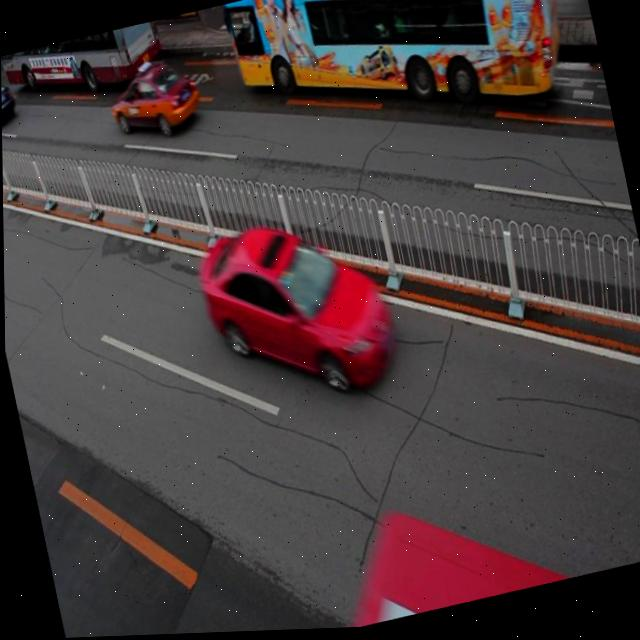car: (193, 202, 400, 416), (107, 57, 204, 145), (1, 70, 19, 135)
van: (221, 0, 579, 162), (334, 486, 557, 630), (0, 21, 164, 108)
